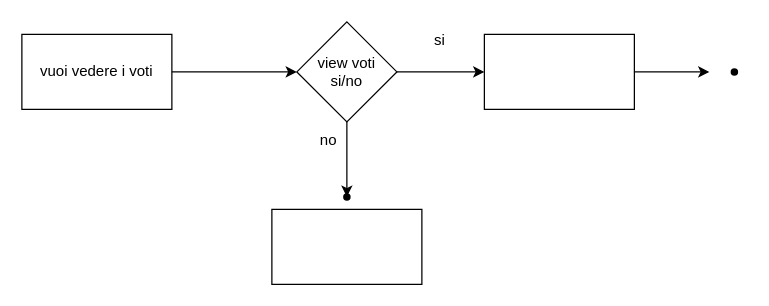
Some shapes in this 769 by 306 pixel diagram are drawn without their labels. Here are the shapes that lost their labels. From the top down, the centre of each, then its label:
(x=558, y=71): must log in
(x=346, y=246): do something else
